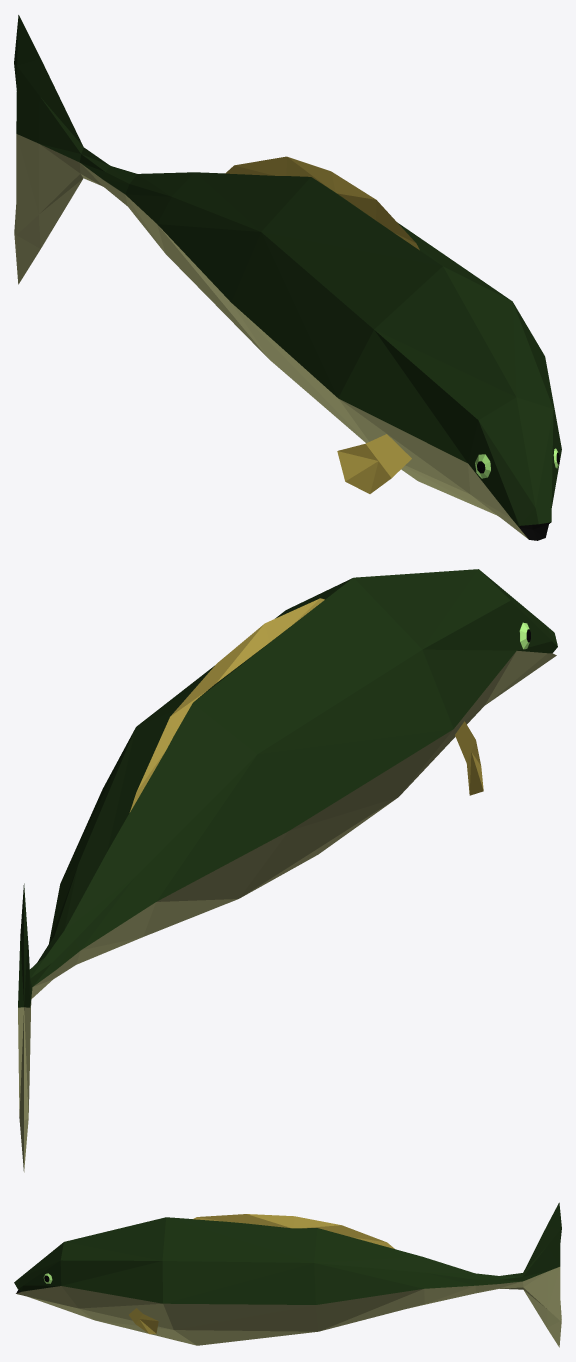
File: Minnow_000009.obj
The picture shows the model from 3 angles, top to bottom: view 1: azimuth 30°, elevation 25°; view 2: azimuth 150°, elevation 25°; view 3: azimuth 270°, elevation 25°; orthographic projection. The views are drawn at different scales.
Bounding box in the file's own units: 0.7187 × 0.9146 × 2.99.
